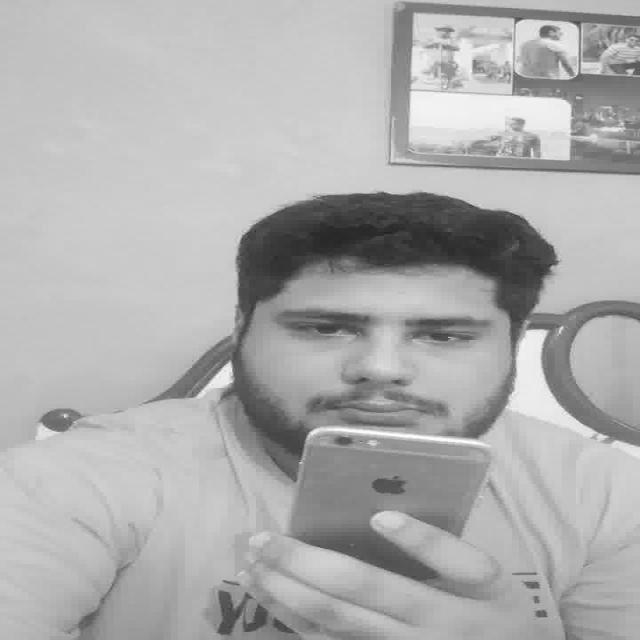fake: (284, 418, 498, 566)
